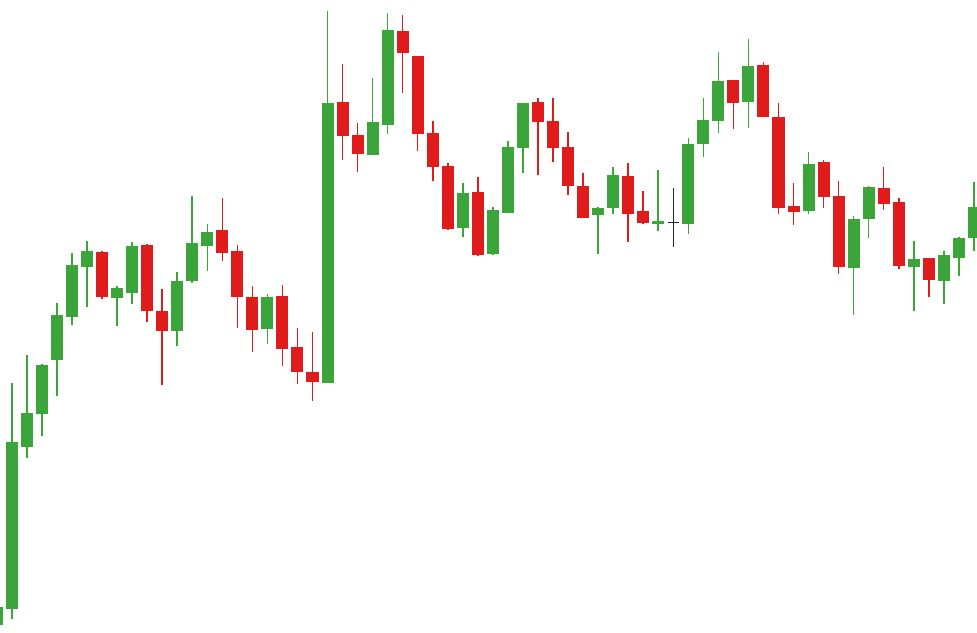sell: (514, 51, 739, 177)
